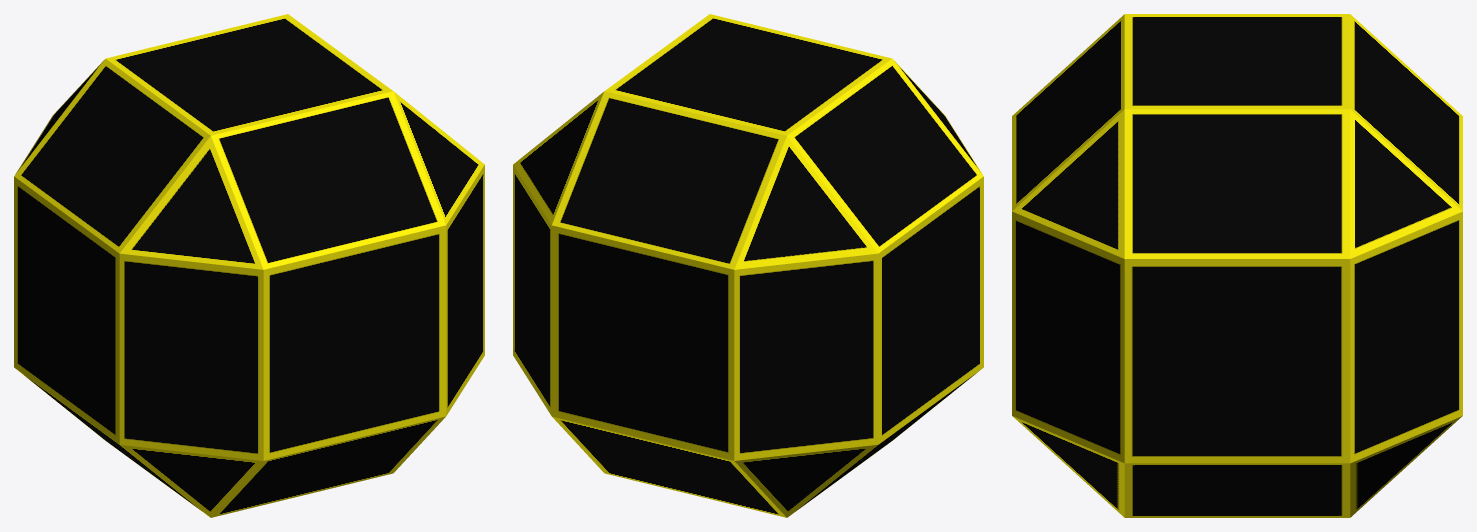
The model's file is LootBox.fbx.
The picture shows the model from 3 angles, left to right: view 1: azimuth 30°, elevation 25°; view 2: azimuth 150°, elevation 25°; view 3: azimuth 270°, elevation 25°; orthographic projection. The views are drawn at different scales.
Parts seen in each view (by area): view 1: pCube1; view 2: pCube1; view 3: pCube1.
Part boxes in pixels (box(x1,y1,x2,y2)): pCube1: box(14, 14, 484, 517); pCube1: box(513, 14, 983, 517); pCube1: box(1012, 14, 1462, 517).
Size of the model in its own units: 1 by 1 by 1.
Materials: 1 (1 with a texture image).
